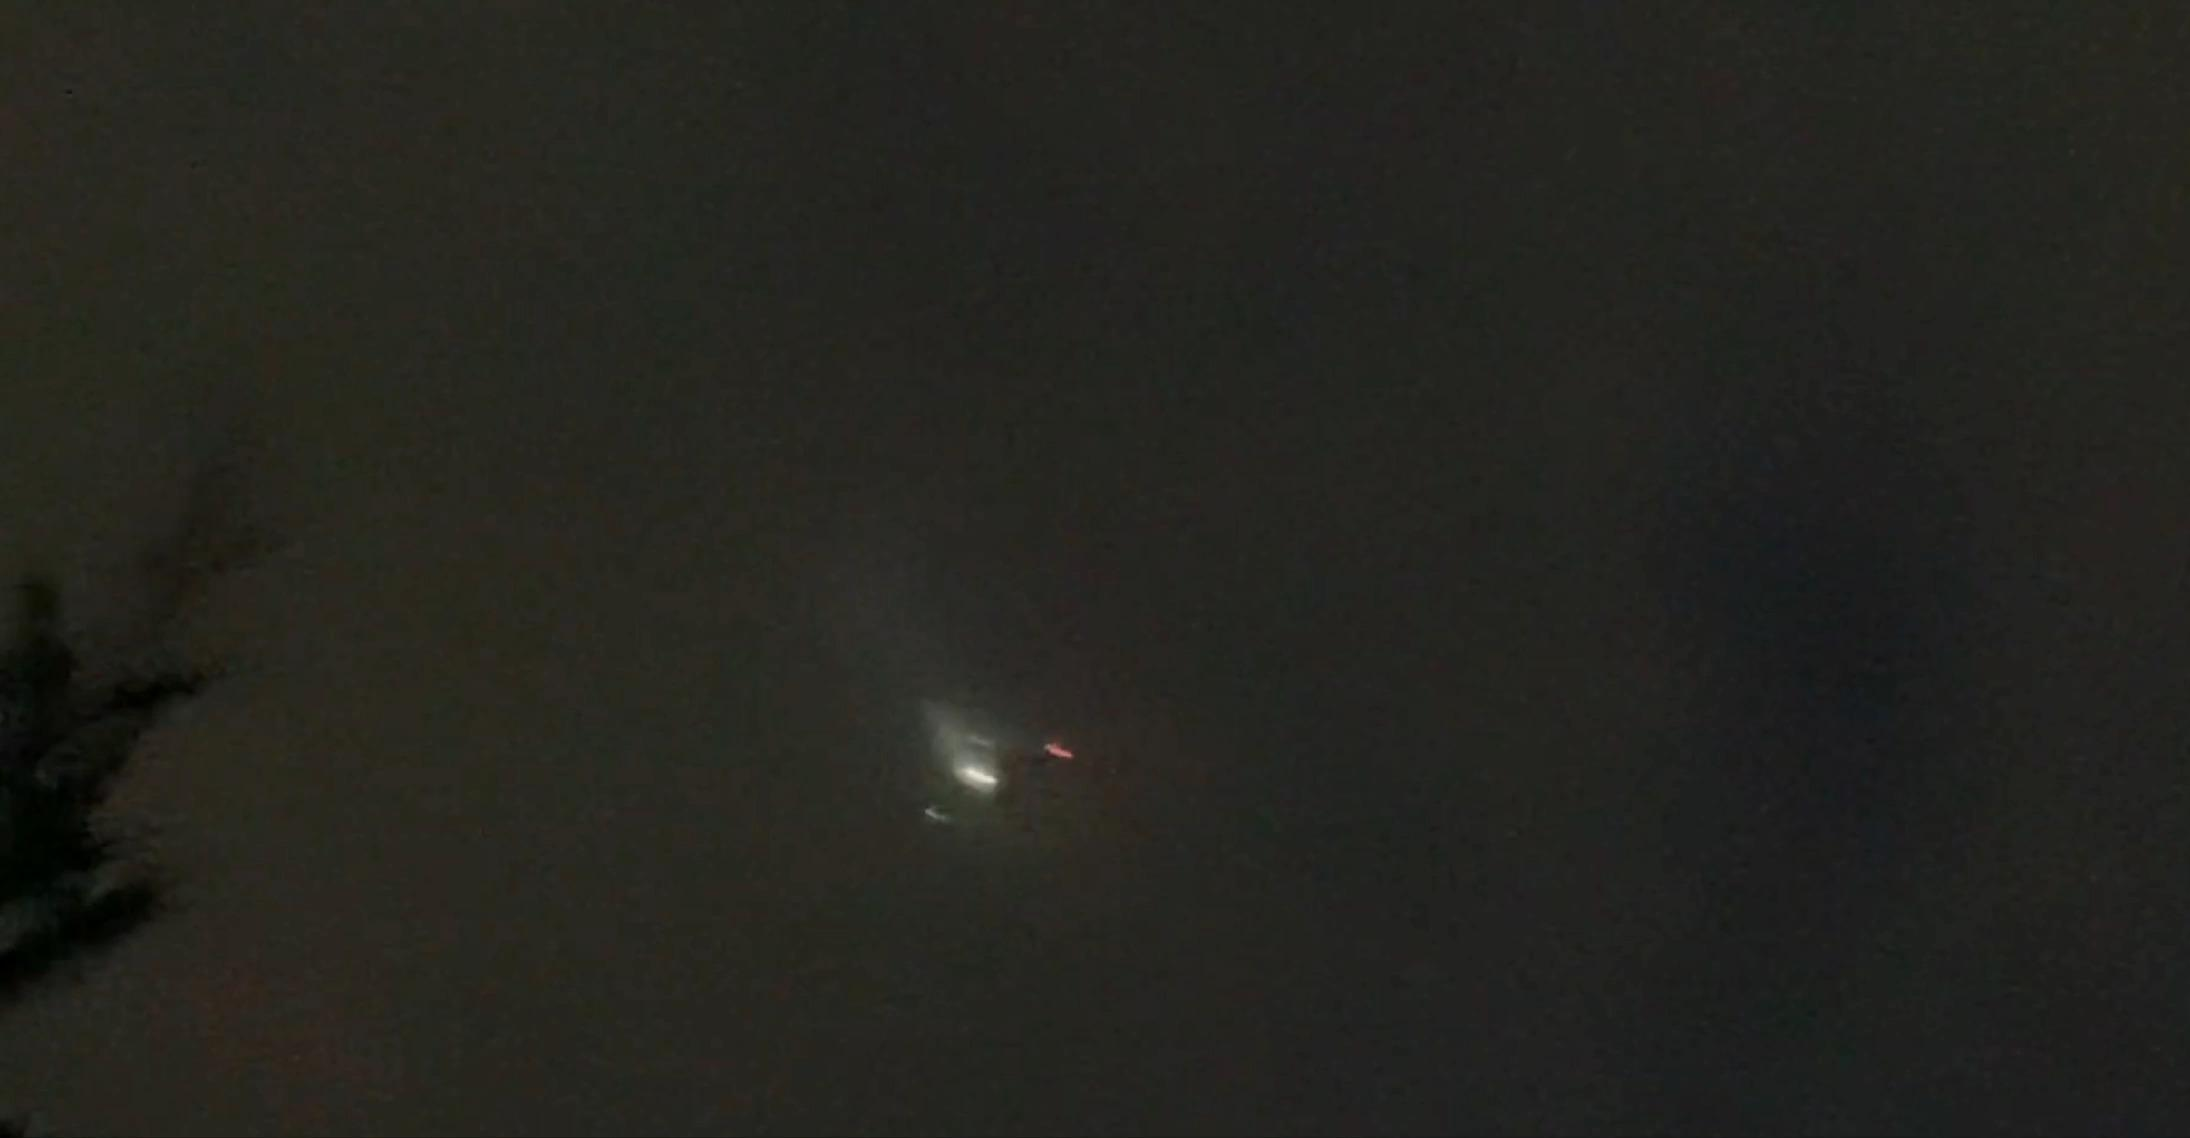Plane: (813, 685, 1143, 827)
